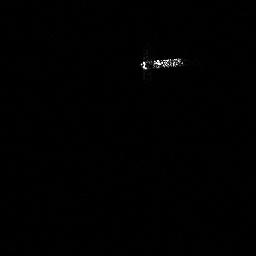ship: (142, 57, 182, 71)
